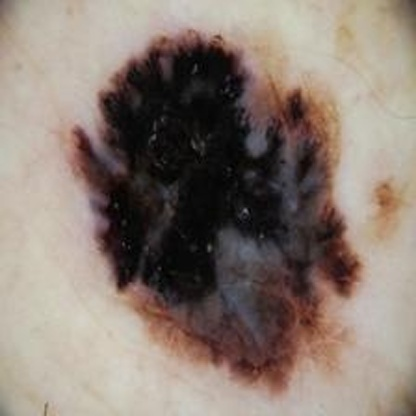malignant: (102, 62, 320, 308)
